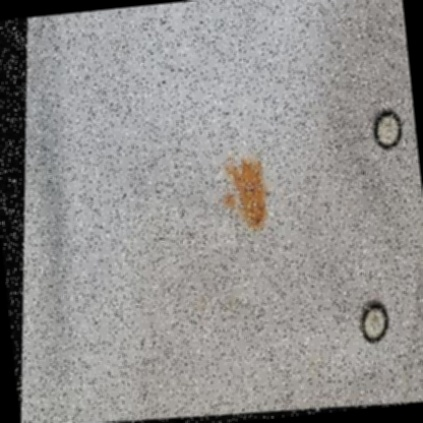kimchi: (203, 151, 281, 243)
